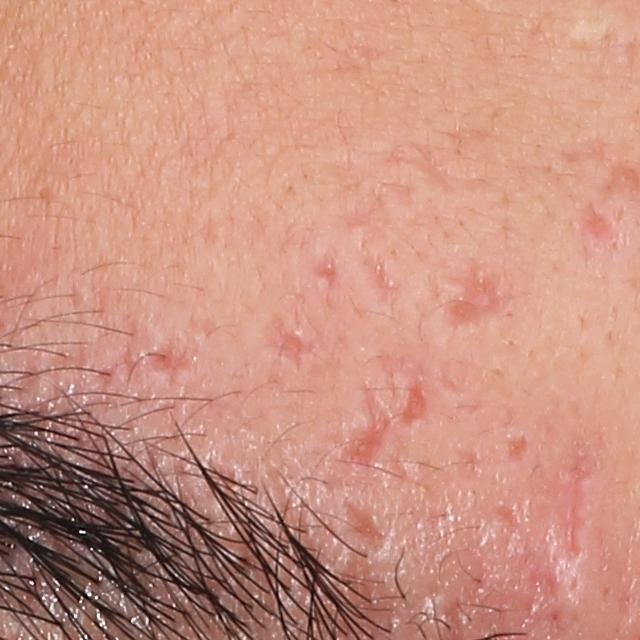atrophic_scar: (334, 386, 393, 472), (441, 261, 505, 331), (260, 316, 326, 374), (405, 142, 467, 193), (355, 246, 402, 306), (340, 501, 390, 556), (139, 346, 193, 391), (563, 451, 586, 554), (399, 374, 430, 425), (311, 243, 342, 291), (503, 431, 533, 463), (491, 505, 523, 534)
hypertrophic_scar: (549, 553, 608, 625), (435, 280, 472, 301)
